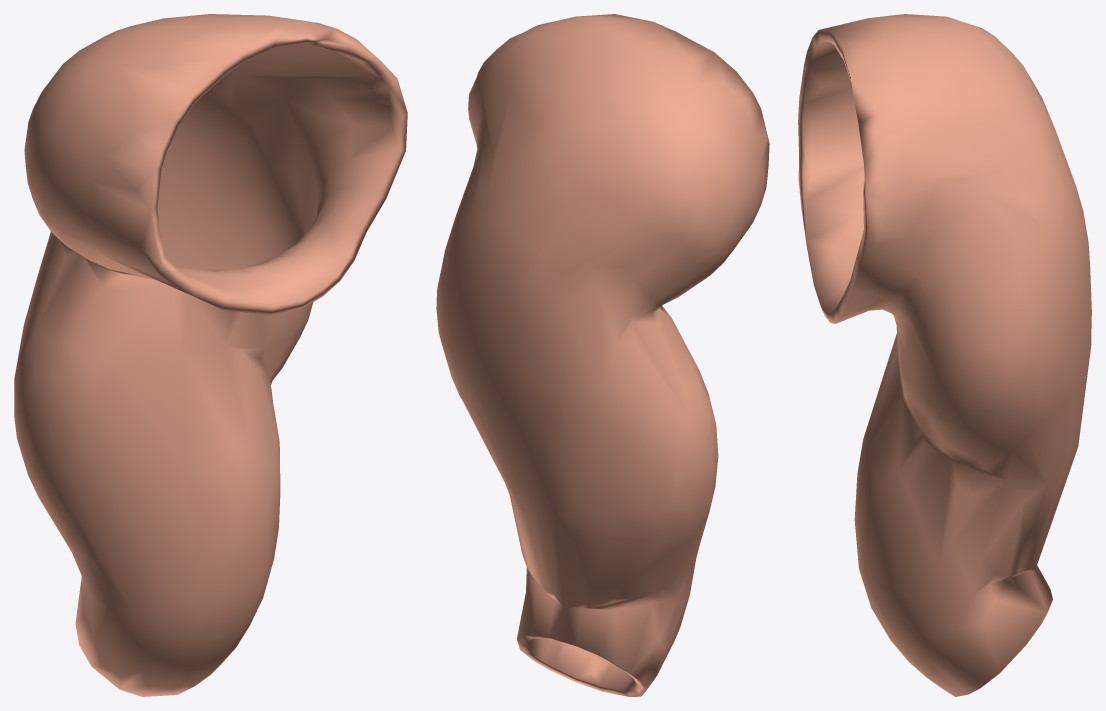
File: visceras-sigmoid-colon.glb
3 renders of one model, left to right at view 1: azimuth 30°, elevation 25°; view 2: azimuth 150°, elevation 25°; view 3: azimuth 270°, elevation 25°, orthographic. The views are drawn at different scales.
Parts seen in each view (by area): view 1: Sigmoid colon; view 2: Sigmoid colon; view 3: Sigmoid colon.
Boxes of the visible parts, <box> form: Sigmoid colon: <box>14,14,407,696</box>; Sigmoid colon: <box>436,14,769,696</box>; Sigmoid colon: <box>798,14,1091,696</box>.
Bounding box in the file's own units: 0.0615 × 0.1226 × 0.0493.
